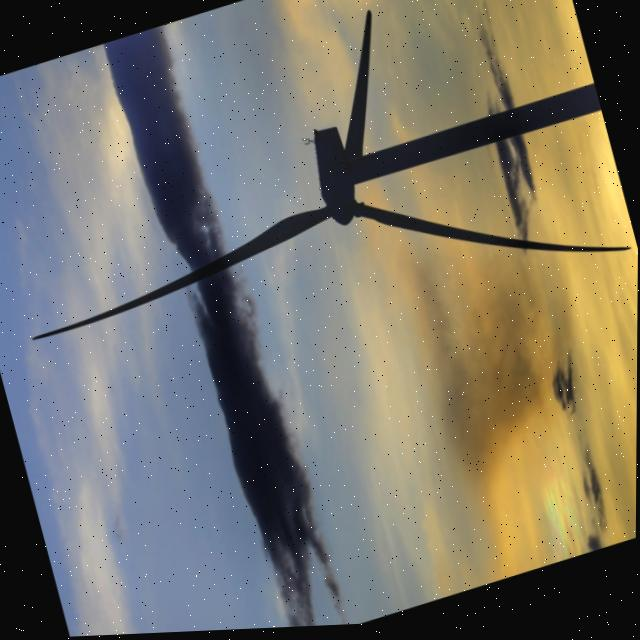solid-blade: (33, 208, 333, 338), (351, 205, 629, 256), (344, 12, 370, 161)
wind-turbine: (34, 14, 629, 338)
